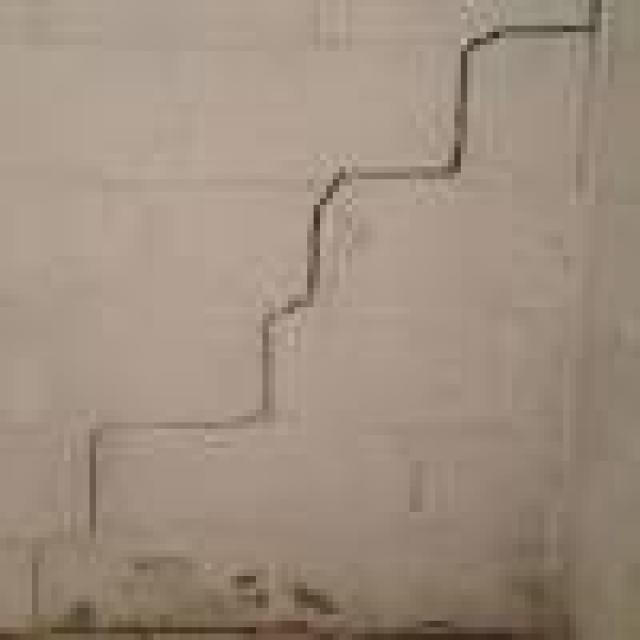Crack: (19, 0, 602, 627)
